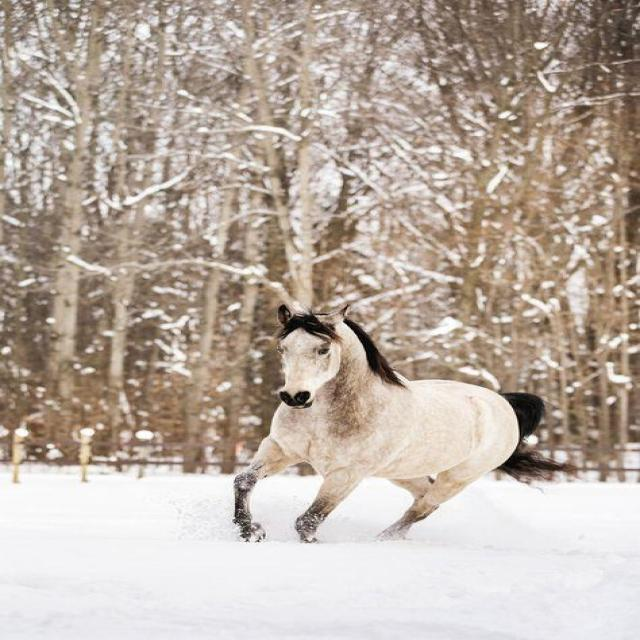horse: (231, 302, 579, 544)
